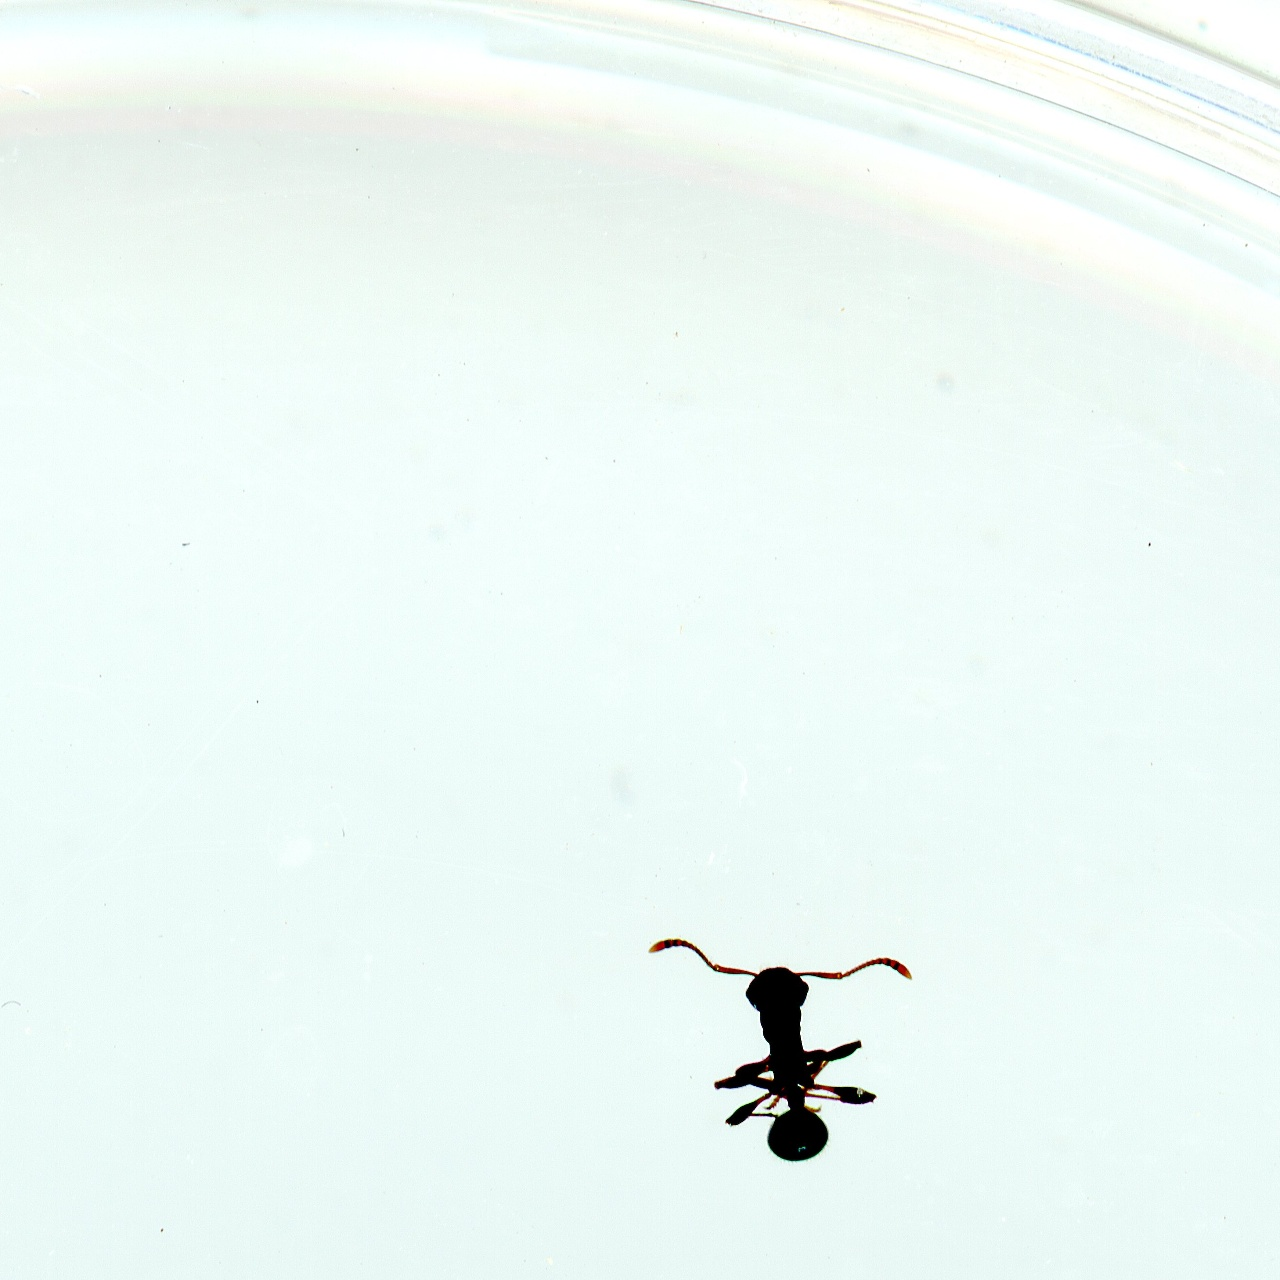arthropod: (635, 915, 935, 1171)
